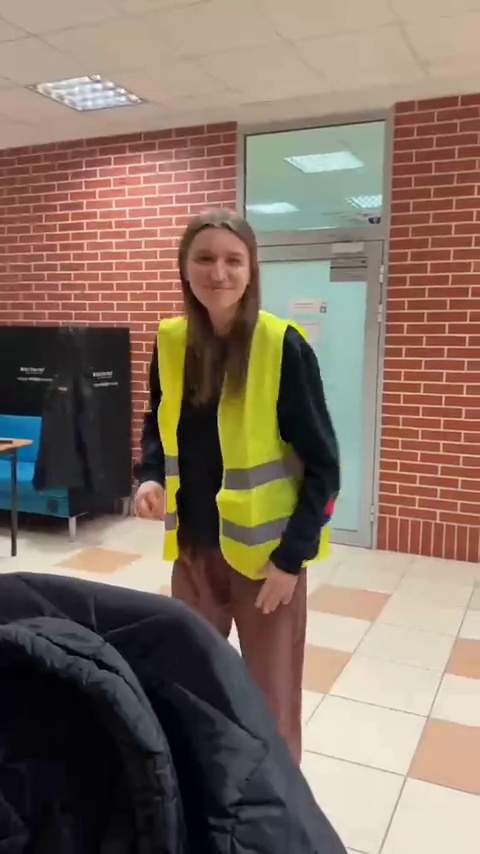vest: (145, 205, 332, 682)
